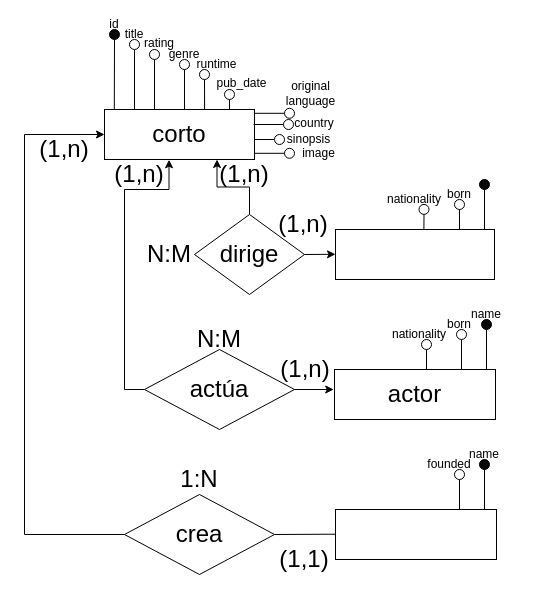
Image size: 552x595. Some labels were removed from this diagram. Here are the shapes that lost their labels. From the top down, the box of each, then its label:
(334, 228, 494, 280): director
(334, 508, 496, 560): estudio
